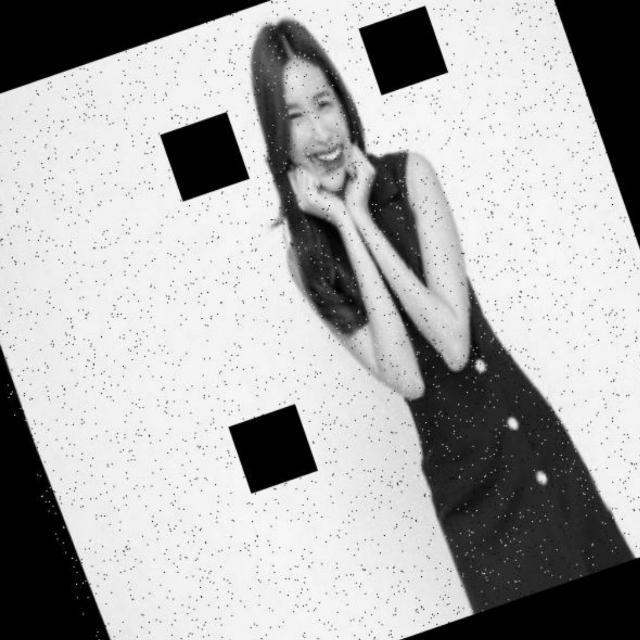Happy: (259, 55, 372, 215)
